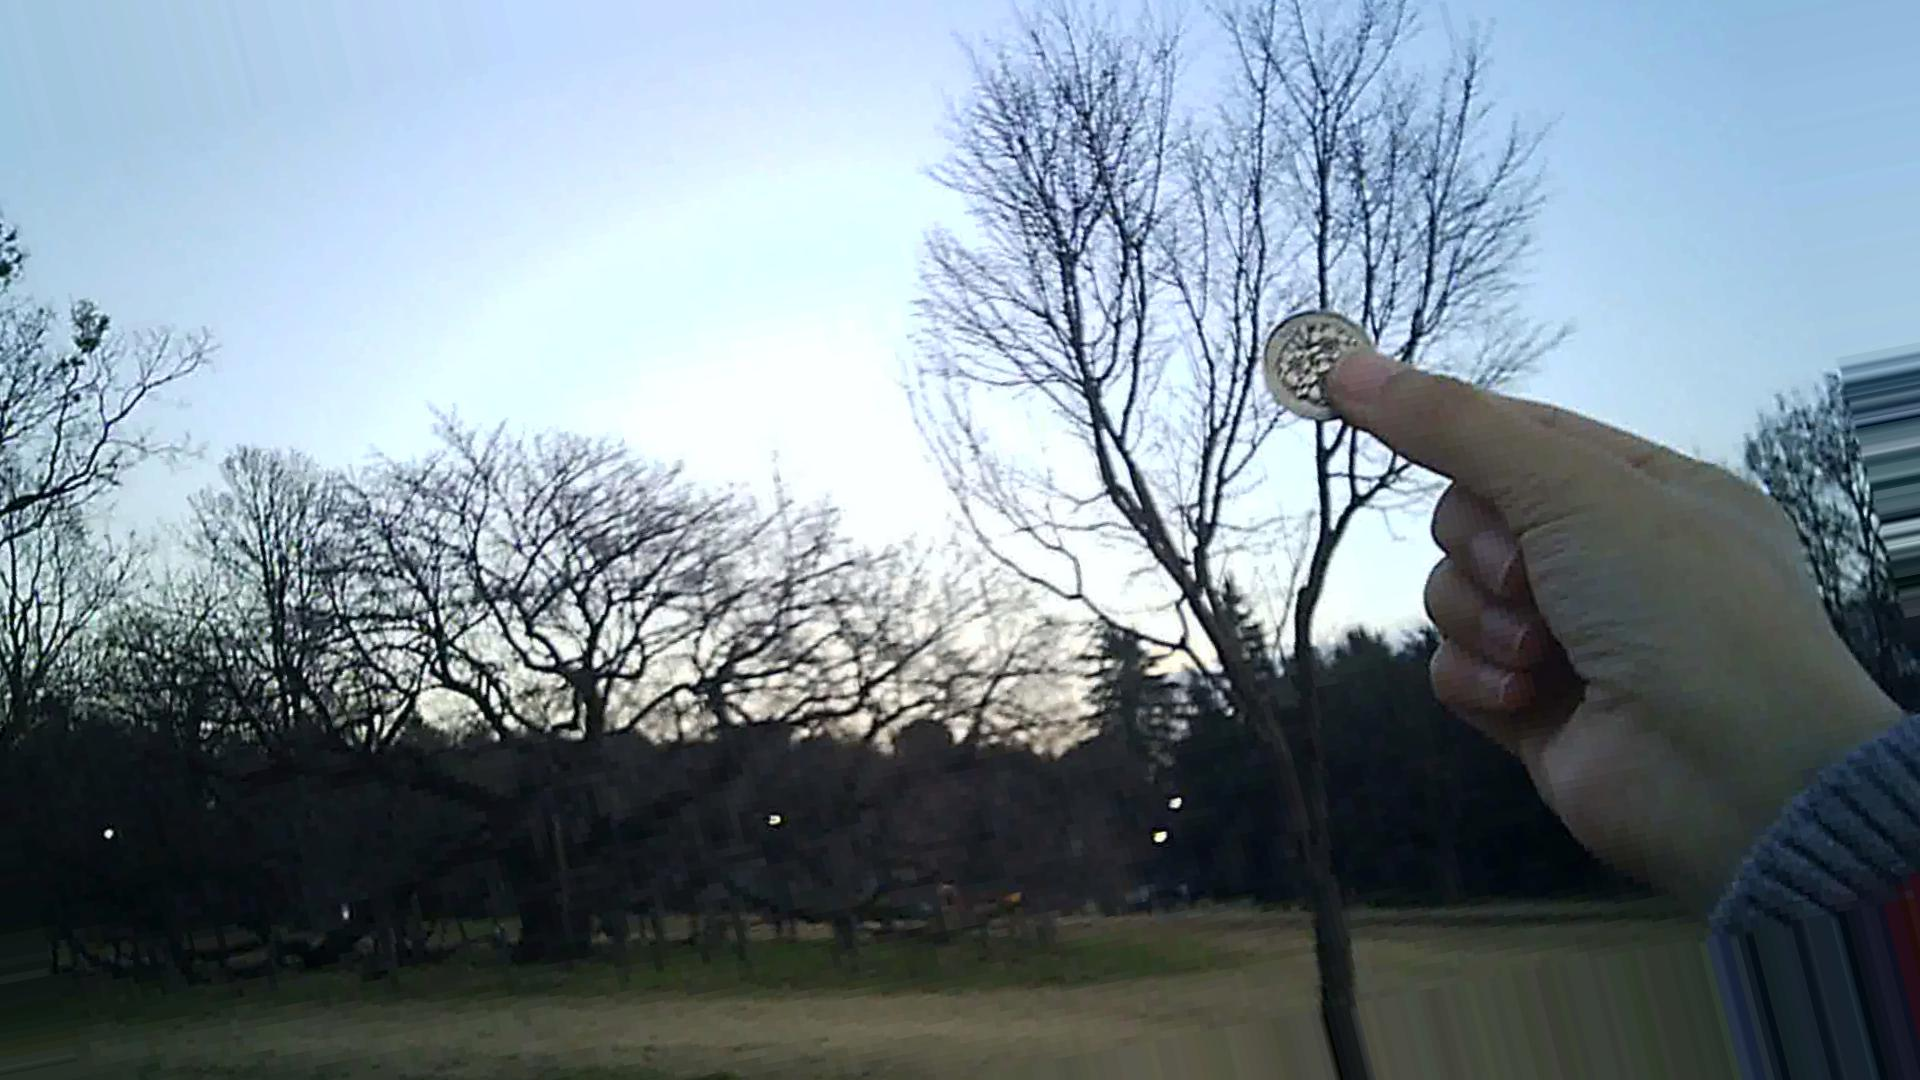100 Yen: (1254, 314, 1383, 411)
